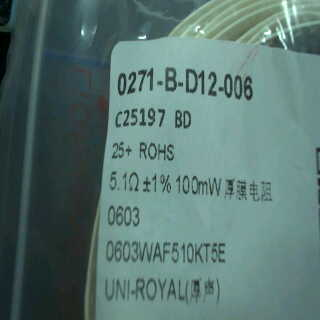5.1R: (107, 167, 141, 194)
